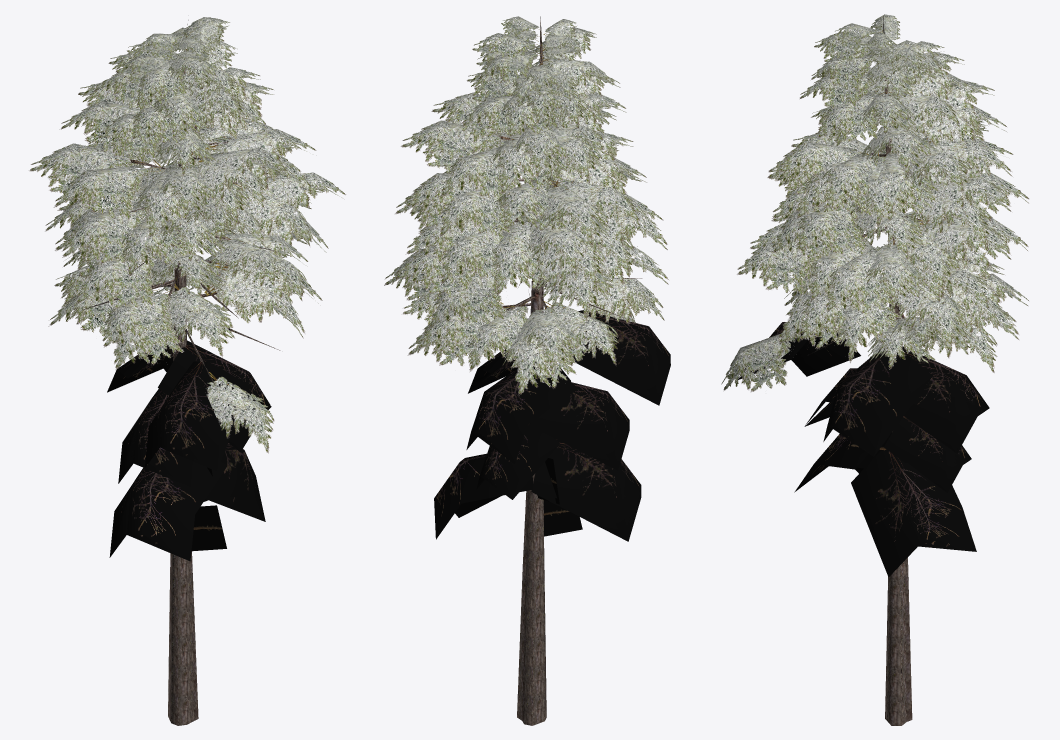
File: Win_Sequia01.DAE
3 renders of one model, left to right at view 1: azimuth 30°, elevation 25°; view 2: azimuth 150°, elevation 25°; view 3: azimuth 270°, elevation 25°, orthographic.
Parts seen in each view (by area): view 1: Sequia512, Sequia256; view 2: Sequia512, Sequia256; view 3: Sequia512, Sequia256.
Boxes of the visible parts, left/top/right/bottom form: Sequia512: left=31, top=17, right=345, bottom=725; Sequia256: left=29, top=25, right=341, bottom=560; Sequia512: left=385, top=16, right=670, bottom=725; Sequia256: left=384, top=22, right=670, bottom=541; Sequia512: left=721, top=14, right=1028, bottom=725; Sequia256: left=723, top=19, right=1028, bottom=574.
Size of what is drawn, in the model's own units: 991 by 1026 by 2445.
